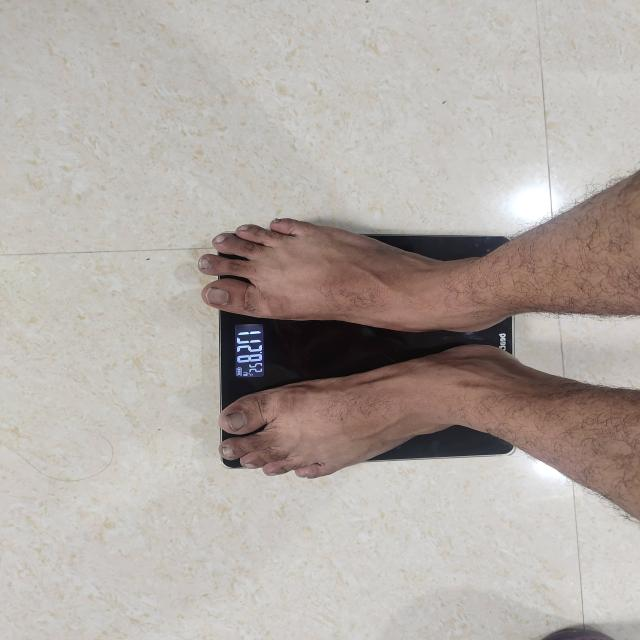ws: (218, 311, 482, 412)
